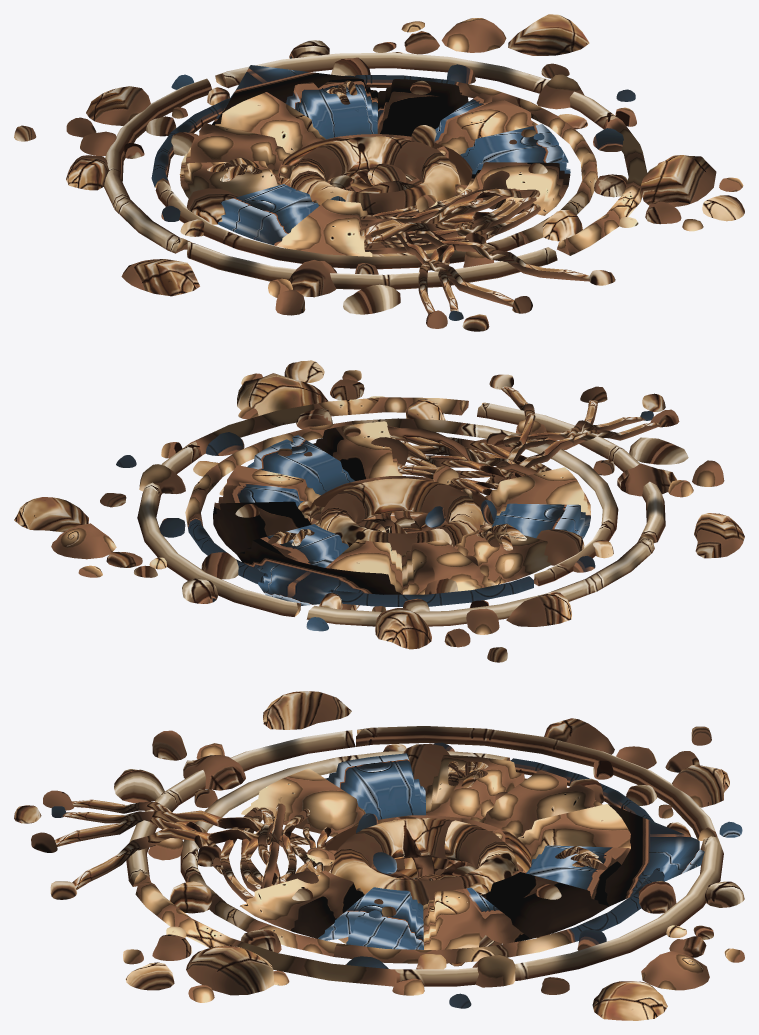
Rendered from worldcenter-bare.dae.
3 views of the same model, one above another, from view 1: azimuth 30°, elevation 25°; view 2: azimuth 150°, elevation 25°; view 3: azimuth 270°, elevation 25° (orthographic). The views are drawn at different scales.
Parts seen in each view (by area): view 1: circle; view 2: circle; view 3: circle.
Boxes of the visible parts, x1,y1,x2,y2 form: circle: (14,14,744,331); circle: (14,360,744,662); circle: (14,691,744,1020).
Bounding box in the file's own units: 0.1414 × 0.137 × 0.0228.
Materials: 1 (1 with a texture image).
